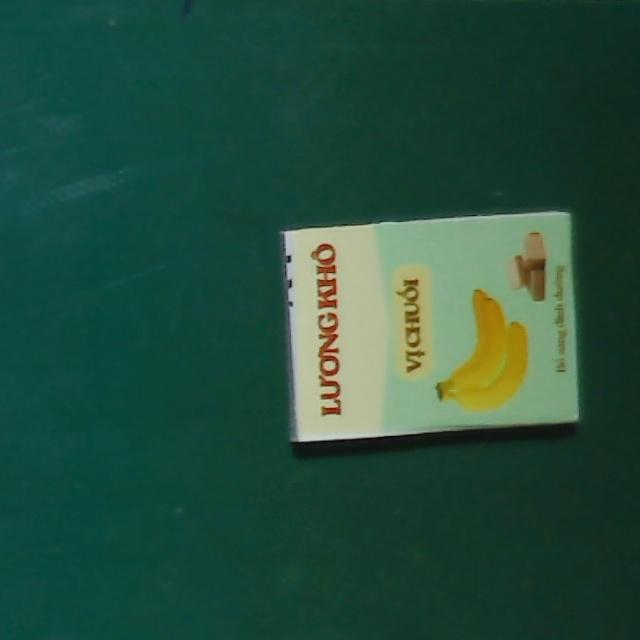chuoi: (279, 210, 583, 442)
